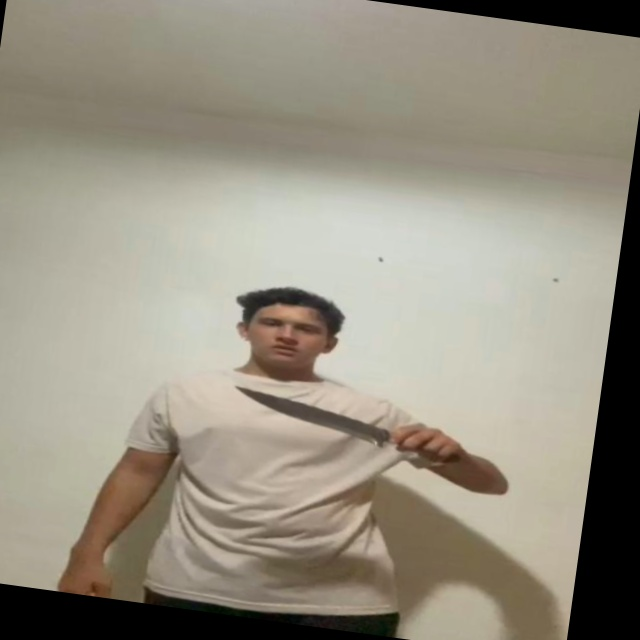Sharp-Object: (233, 386, 392, 449)
